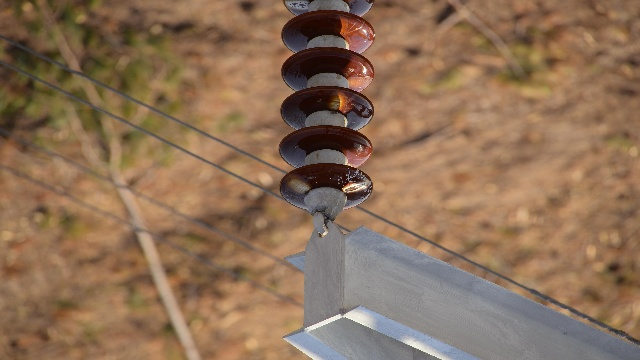insulator_unspecified: (278, 0, 376, 213)
pollution_flashover_local: (339, 182, 369, 199), (291, 175, 314, 196), (348, 73, 372, 93), (331, 11, 350, 35), (327, 92, 343, 113)
